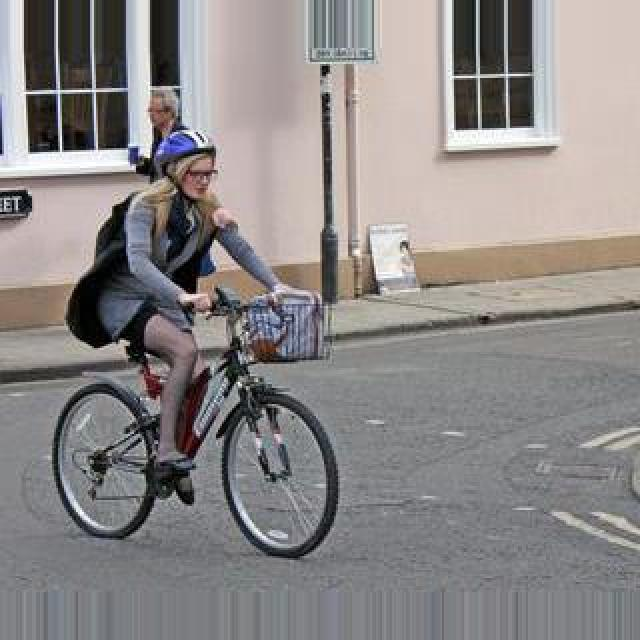MC-Bike: (94, 124, 304, 504), (130, 88, 208, 180)
Person: (44, 287, 348, 557)
